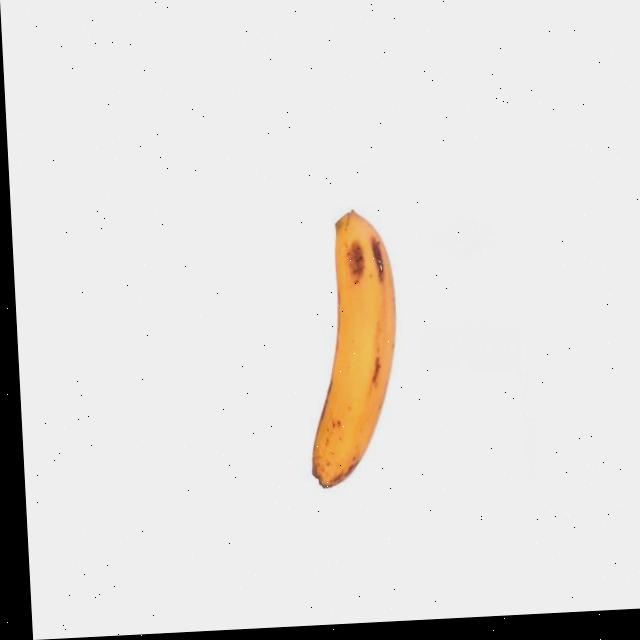banana: (301, 205, 407, 488)
